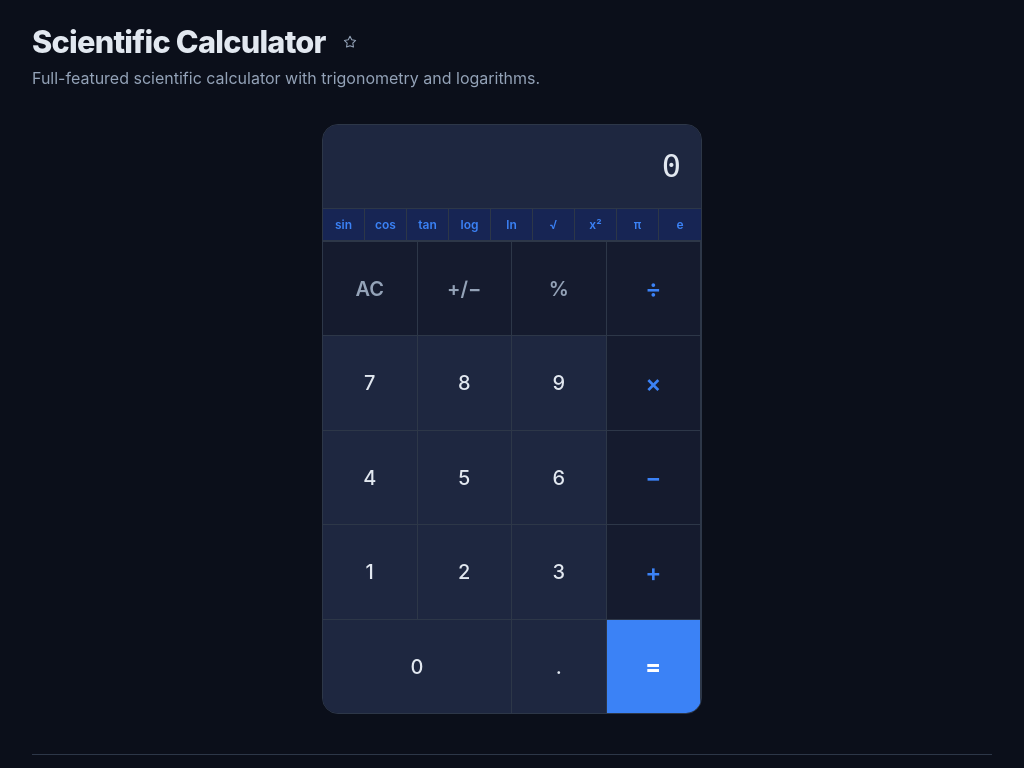
Test: ScientificCalc › clicking 5, ×, 3, = shows 15 in the display
Click the button "5": (465, 477) 418,430 -> 512,524
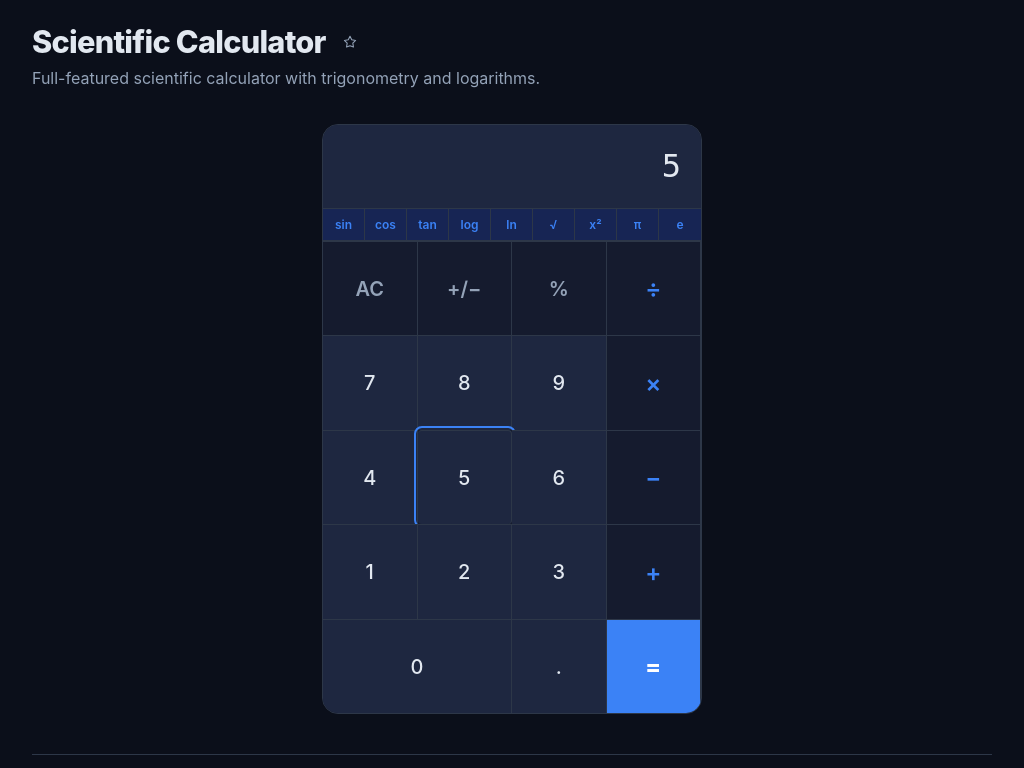
Click the button "×": (654, 383) 606,335 -> 701,430
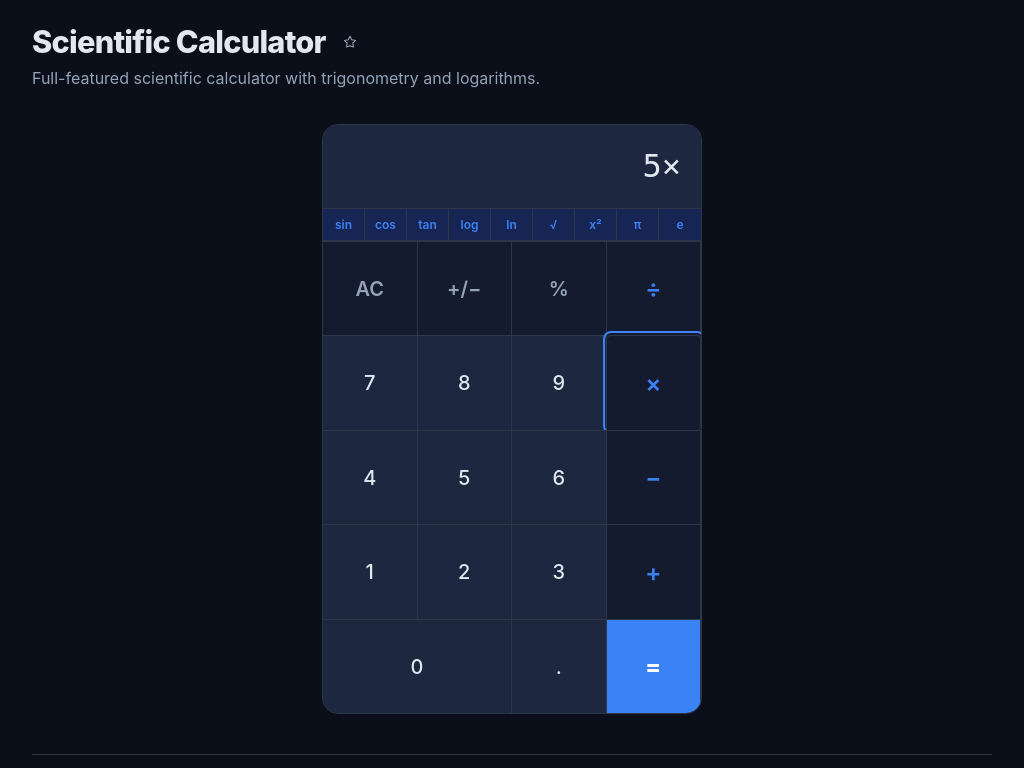
Click the button "3": (559, 572) 512,524 -> 606,619
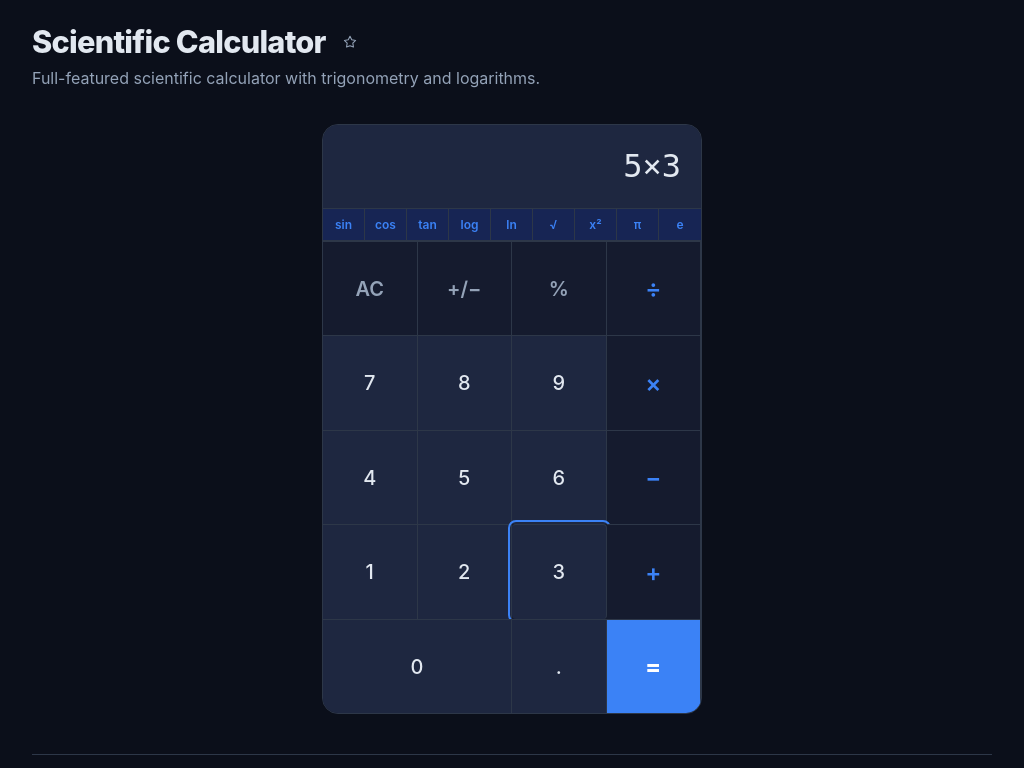
Click the button "=": (654, 666) 606,619 -> 701,713
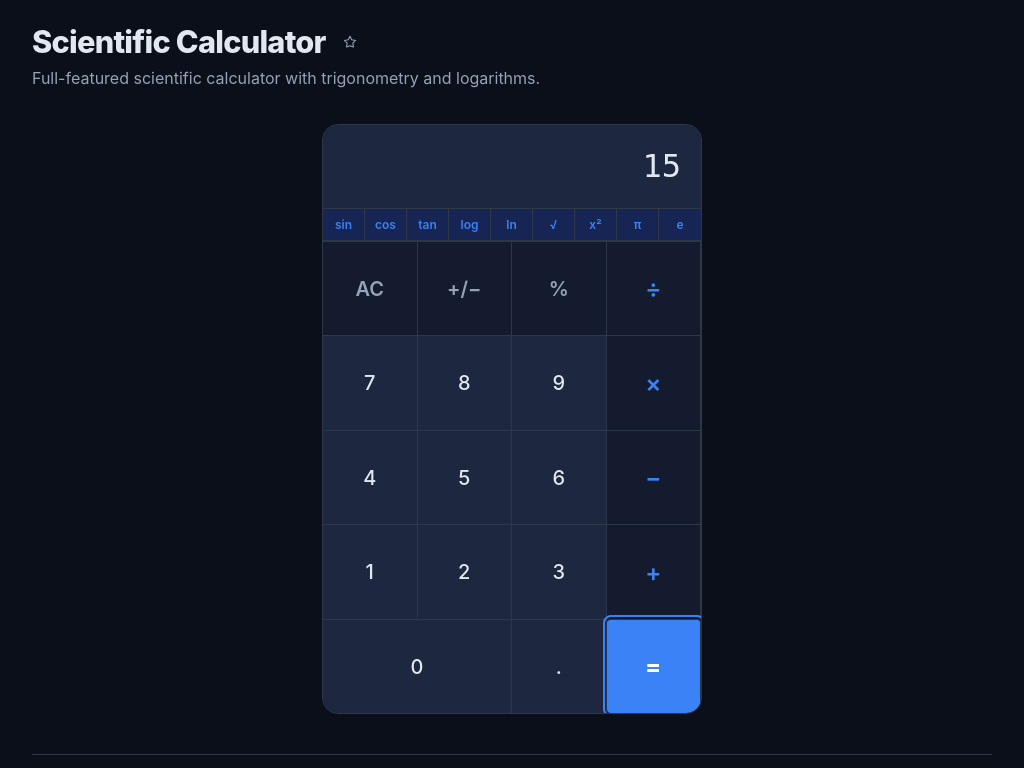
Result: the field named "Display" reads "15" at 642,147 -> 681,185
